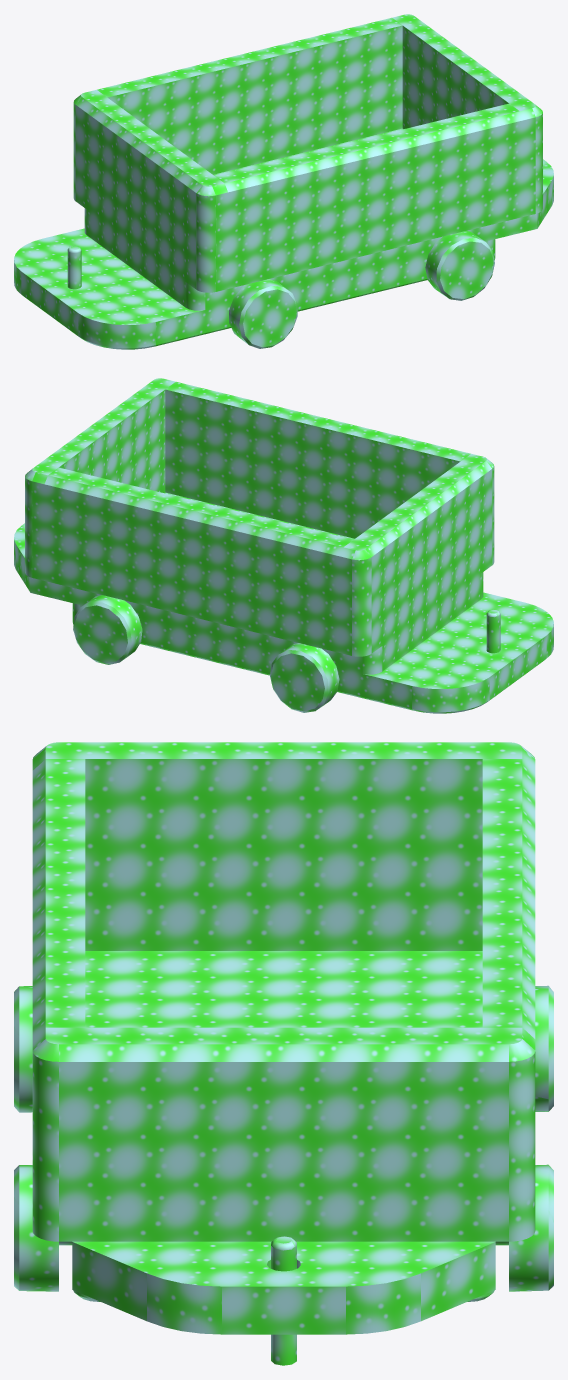
Rendered from train_mid.gltf.
3 views of the same model, one above another, from view 1: azimuth 30°, elevation 25°; view 2: azimuth 150°, elevation 25°; view 3: azimuth 270°, elevation 25° (orthographic). The views are drawn at different scales.
Visible parts, largest first — view 1: mid_carraige; view 2: mid_carraige; view 3: mid_carraige.
Boxes of the visible parts, left/top/right/bottom form: mid_carraige: left=14, top=14, right=553, bottom=349; mid_carraige: left=14, top=378, right=553, bottom=713; mid_carraige: left=14, top=742, right=553, bottom=1365.
Size of the model in its own units: 19.5 by 6.55 by 10.2.
Materials: 1 (1 with a texture image).
